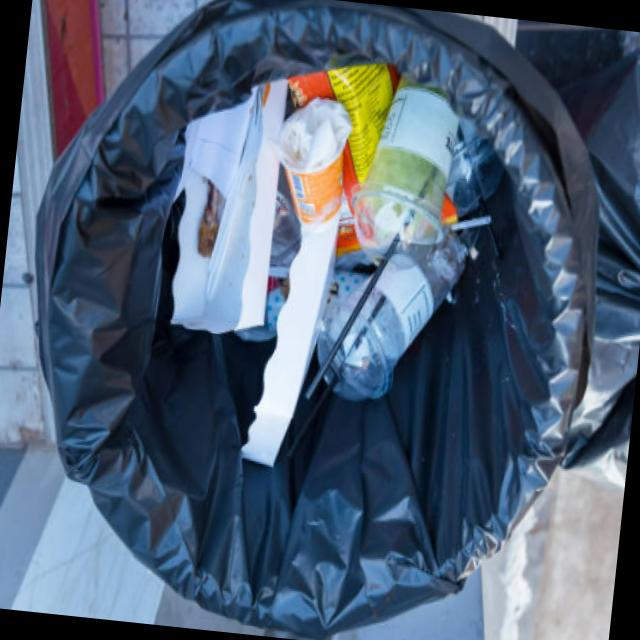KemasanPlastik: (305, 212, 478, 418), (347, 66, 467, 256), (274, 99, 354, 228)
